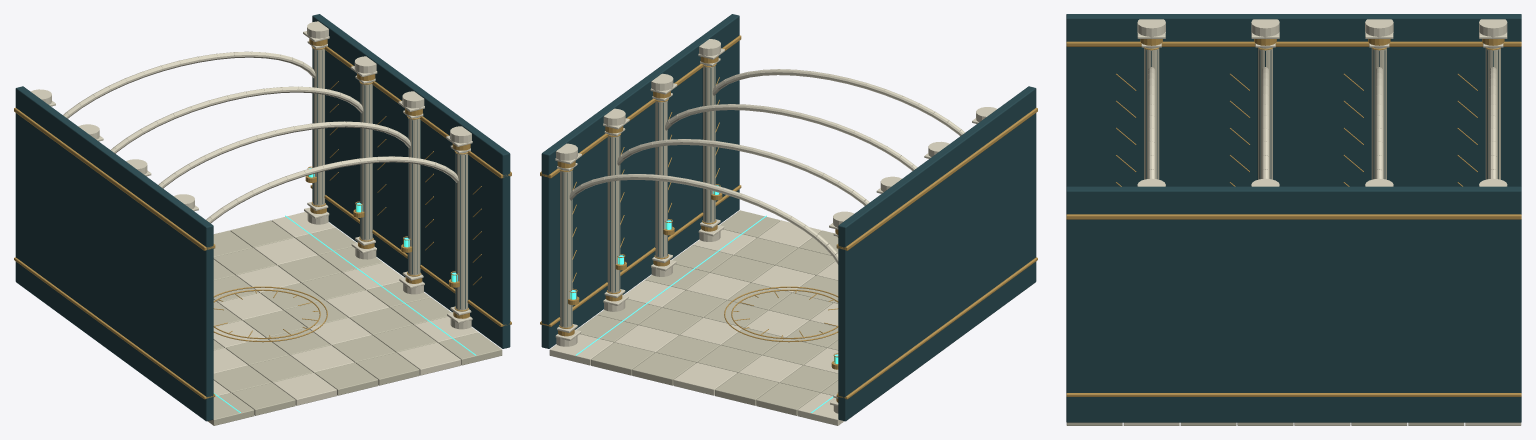
File: hall_twin.fbx
The picture shows the model from 3 angles, left to right: view 1: azimuth 30°, elevation 25°; view 2: azimuth 150°, elevation 25°; view 3: azimuth 270°, elevation 25°; orthographic projection. The views are drawn at different scales.
Parts seen in each view (by area): view 1: hall_twin_Midnight teal, hall_twin_Ivory limestone, hall_twin_Carved limestone, hall_twin_Aged brass, hall_twin_Turquoise inlay; view 2: hall_twin_Midnight teal, hall_twin_Ivory limestone, hall_twin_Carved limestone, hall_twin_Aged brass, hall_twin_Turquoise inlay; view 3: hall_twin_Midnight teal, hall_twin_Aged brass, hall_twin_Carved limestone, hall_twin_Ivory limestone.
Boxes of the visible parts, x1,y1,x2,y2 form: hall_twin_Midnight teal: (15,14,510,421); hall_twin_Ivory limestone: (207,47,502,425); hall_twin_Carved limestone: (31,21,478,405); hall_twin_Aged brass: (14,38,511,399); hall_twin_Turquoise inlay: (214,168,476,412); hall_twin_Midnight teal: (541,14,1036,421); hall_twin_Ivory limestone: (560,64,838,415); hall_twin_Carved limestone: (549,39,996,425); hall_twin_Aged brass: (540,35,1037,402); hall_twin_Turquoise inlay: (570,185,838,412); hall_twin_Midnight teal: (1066,14,1521,422); hall_twin_Aged brass: (1066,39,1521,396); hall_twin_Carved limestone: (1123,19,1521,425); hall_twin_Ivory limestone: (1066,47,1500,425).
Bounding box in the file's own units: 1491 × 930 × 1600.
